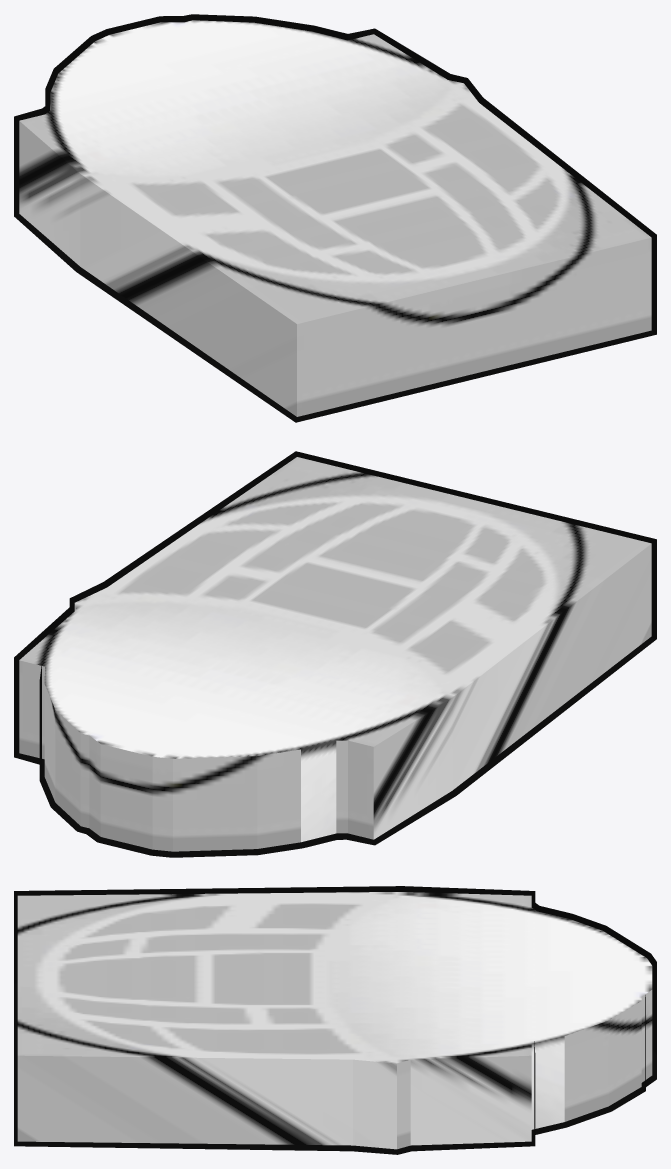
Rendered from Building_SculptureGrand_Things_Building_Art_SculptureGrand_SculptureGrandAbstractB.glb.
3 renders of one model, top to bottom at view 1: azimuth 30°, elevation 25°; view 2: azimuth 150°, elevation 25°; view 3: azimuth 270°, elevation 25°, orthographic. The views are drawn at different scales.
Visible parts, largest first — view 1: Body, Outline; view 2: Body, Outline; view 3: Body, Outline.
Part boxes in pixels (x1,y1,x2,y2): Body: (19, 20, 651, 416); Outline: (14, 14, 656, 422); Body: (19, 457, 651, 851); Outline: (14, 451, 656, 857); Body: (17, 892, 652, 1149); Outline: (14, 886, 656, 1154).
Bounding box in the file's own units: 1.05 × 0.2667 × 1.63.
Materials: 2 (1 with a texture image).
